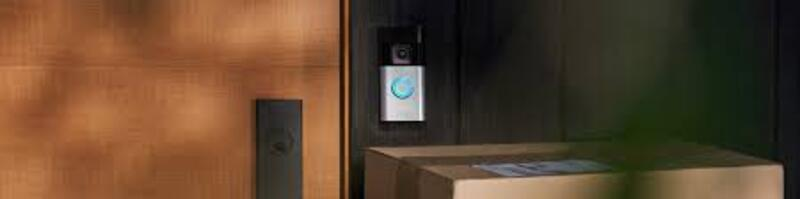doorbell: (375, 25, 427, 122)
